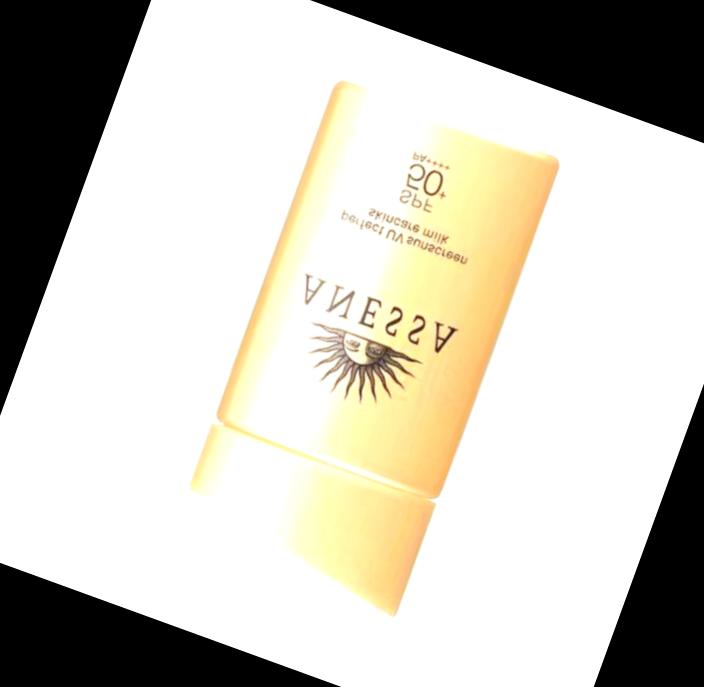cosmetic: (170, 83, 562, 624)
